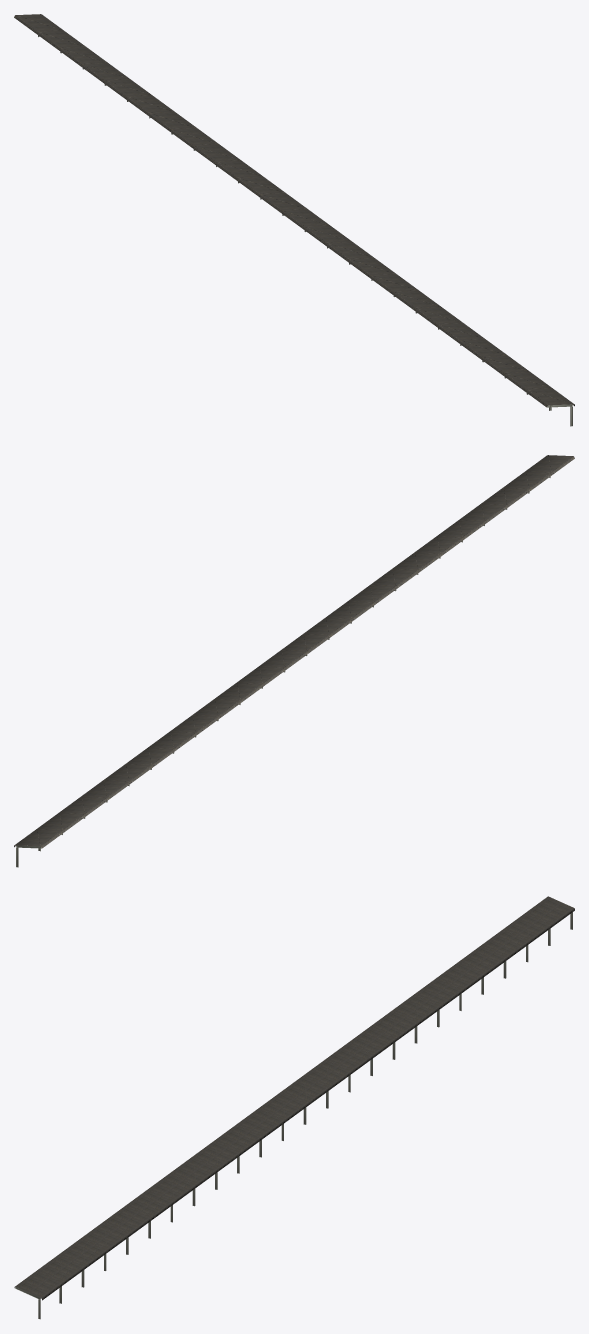
File: ST_YANE_L_24BONE.glb
3 renders of one model, top to bottom at view 1: azimuth 30°, elevation 25°; view 2: azimuth 150°, elevation 25°; view 3: azimuth 330°, elevation 25°, orthographic.
Visible parts, largest first — view 1: obj17; view 2: obj17; view 3: obj17.
Boxes of the visible parts, bbox=[...] form: obj17: bbox=[14, 14, 574, 407]; obj17: bbox=[14, 455, 574, 848]; obj17: bbox=[14, 896, 574, 1300].
Size of the model in its own units: 9.08 by 8.42 by 300.
27 materials, 27 textured.
